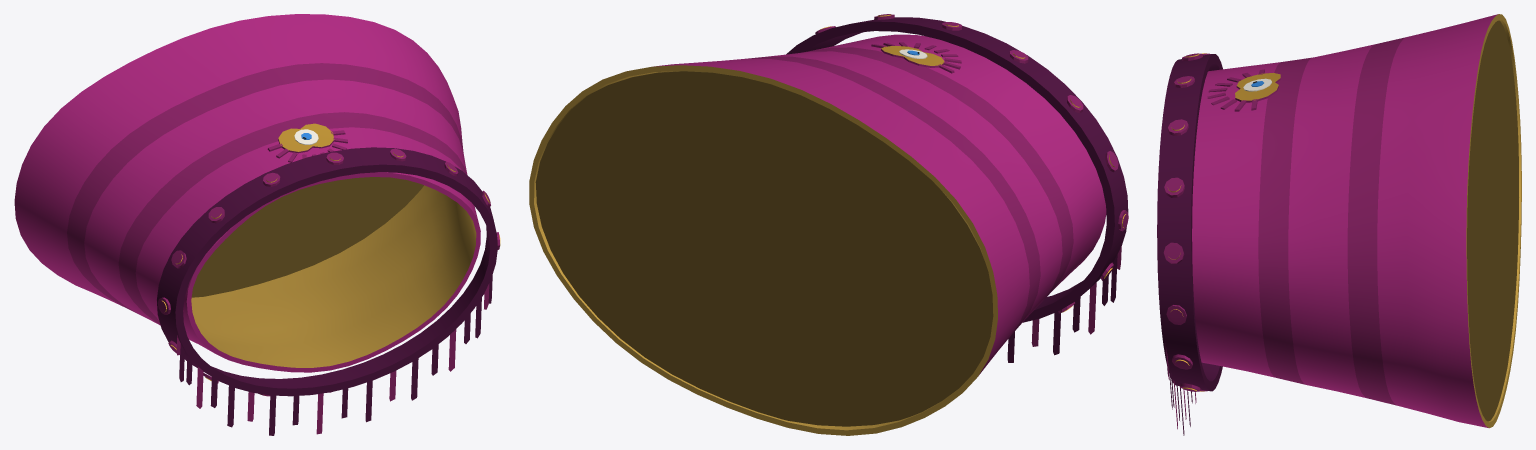
Rendered from Sleeve_Fortune.fbx.
3 views of the same model, side by side, from view 1: azimuth 30°, elevation 25°; view 2: azimuth 150°, elevation 25°; view 3: azimuth 270°, elevation 25° (orthographic). The views are drawn at different scales.
Parts seen in each view (by area): view 1: Sleeve_Fortune; view 2: Sleeve_Fortune; view 3: Sleeve_Fortune.
Boxes of the visible parts, x1,y1,x2,y2 form: Sleeve_Fortune: (14,14,500,435); Sleeve_Fortune: (529,14,1128,435); Sleeve_Fortune: (1157,14,1521,435).
Size of the model in its own units: 1.15 by 0.8223 by 0.7255.
1 material, 1 textured.
